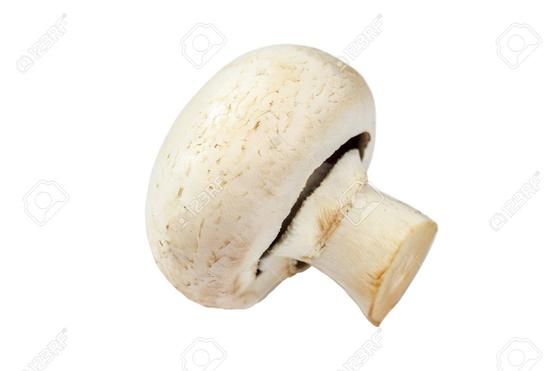champignon: (139, 40, 442, 336)
